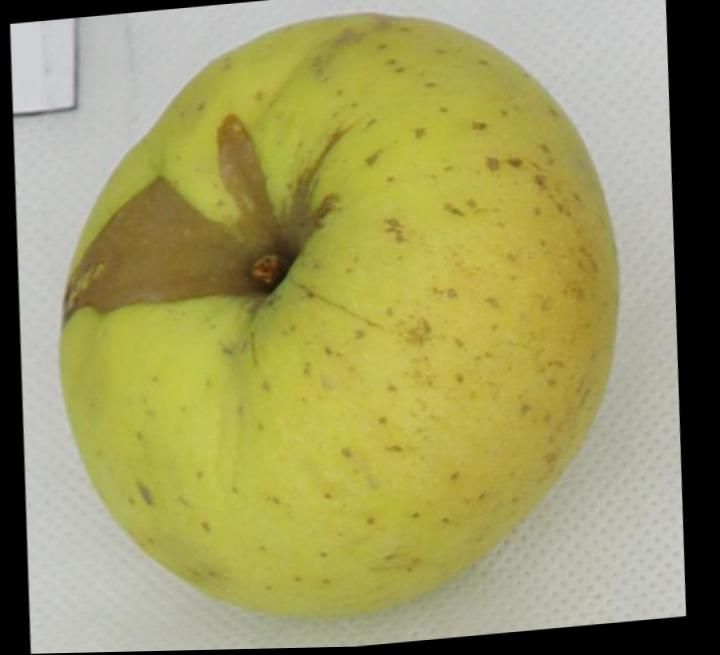apple: (61, 12, 616, 613)
bruise_discoloration: (64, 112, 345, 320)
